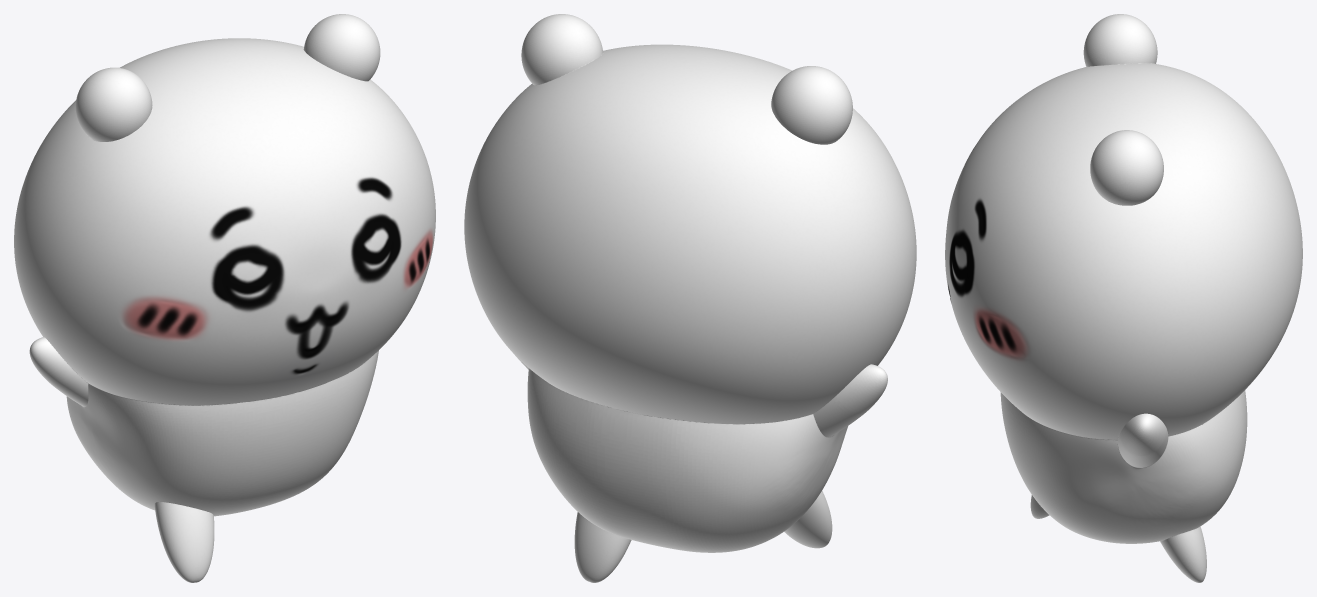
Rendered from chiikawa.glb.
The picture shows the model from 3 angles, left to right: view 1: azimuth 30°, elevation 25°; view 2: azimuth 150°, elevation 25°; view 3: azimuth 270°, elevation 25°; orthographic projection. The views are drawn at different scales.
Parts seen in each view (by area): view 1: Object_5, Object_2, Object_6, Object_7, Object_3, Object_4, Object_8; view 2: Object_2, Object_5, Object_7, Object_4, Object_6, Object_3, Object_8; view 3: Object_4, Object_3, Object_2, Object_6, Object_5, Object_7, Object_8.
Boxes of the visible parts, bbox=[...] form: Object_5: bbox=[15, 22, 435, 526]; Object_2: bbox=[19, 14, 435, 577]; Object_6: bbox=[15, 14, 435, 582]; Object_7: bbox=[14, 17, 434, 582]; Object_3: bbox=[14, 20, 431, 582]; Object_4: bbox=[14, 14, 435, 582]; Object_8: bbox=[14, 15, 434, 579]; Object_2: bbox=[464, 14, 916, 582]; Object_5: bbox=[465, 17, 916, 582]; Object_7: bbox=[464, 15, 916, 581]; Object_4: bbox=[469, 14, 916, 547]; Object_6: bbox=[464, 14, 915, 578]; Object_3: bbox=[465, 21, 908, 572]; Object_8: bbox=[464, 14, 916, 581]; Object_4: bbox=[945, 18, 1302, 543]; Object_3: bbox=[945, 14, 1299, 528]; Object_2: bbox=[951, 64, 1302, 582]; Object_6: bbox=[948, 14, 1299, 582]; Object_5: bbox=[945, 14, 1302, 579]; Object_7: bbox=[945, 15, 1302, 580]; Object_8: bbox=[946, 15, 1300, 576].
Size of the model in its own units: 24.11 by 29.69 by 19.89.
Materials: 1 (1 with a texture image).
